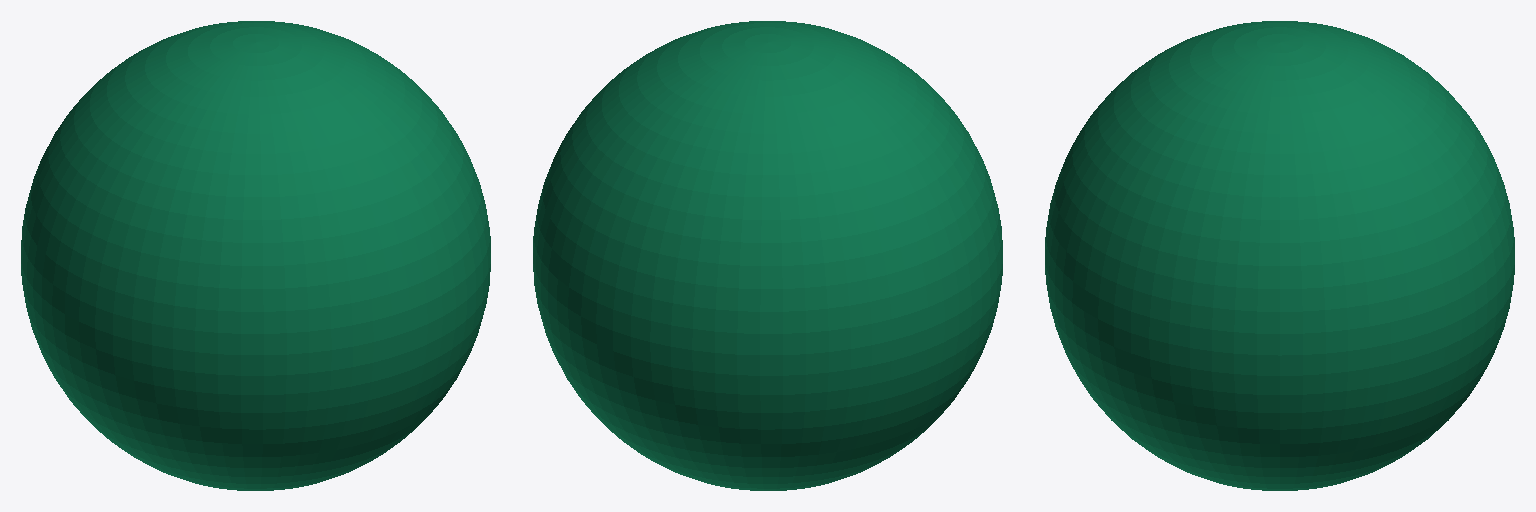
The model's file is Sun.obj.
3 views of the same model, side by side, from view 1: azimuth 30°, elevation 25°; view 2: azimuth 150°, elevation 25°; view 3: azimuth 270°, elevation 25° (orthographic).
Parts seen in each view (by area): view 1: UnstableStarref; view 2: UnstableStarref; view 3: UnstableStarref.
Boxes of the visible parts, x1=… form: UnstableStarref: x1=21, y1=21, x2=490, y2=490; UnstableStarref: x1=533, y1=21, x2=1002, y2=490; UnstableStarref: x1=1045, y1=21, x2=1514, y2=490.
Size of the model in its own units: 20.2 by 20.2 by 20.2.